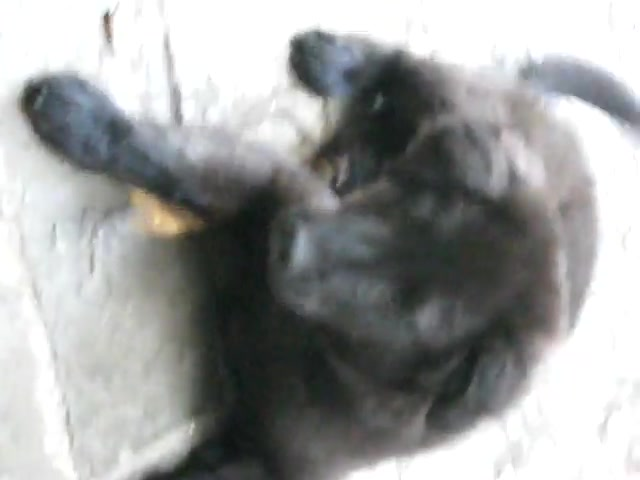dog: (19, 28, 640, 480)
